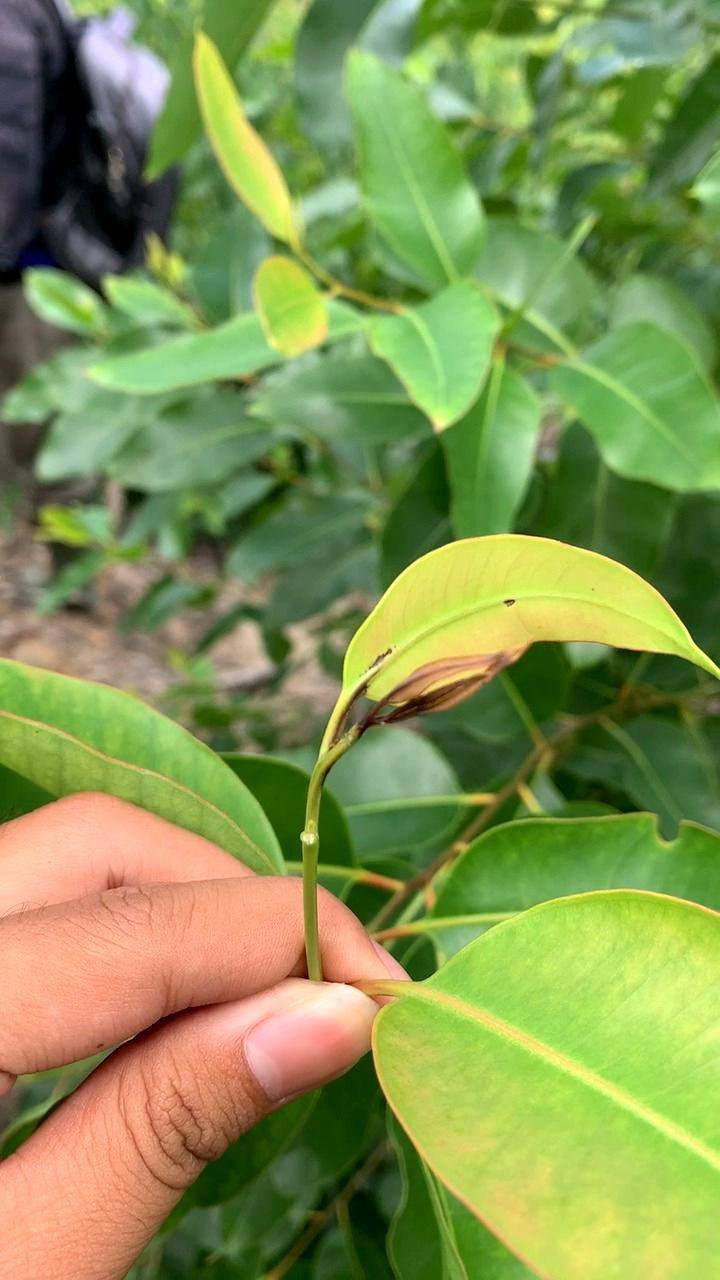Helopeltis-Withered Sprout: (340, 636, 533, 743)
